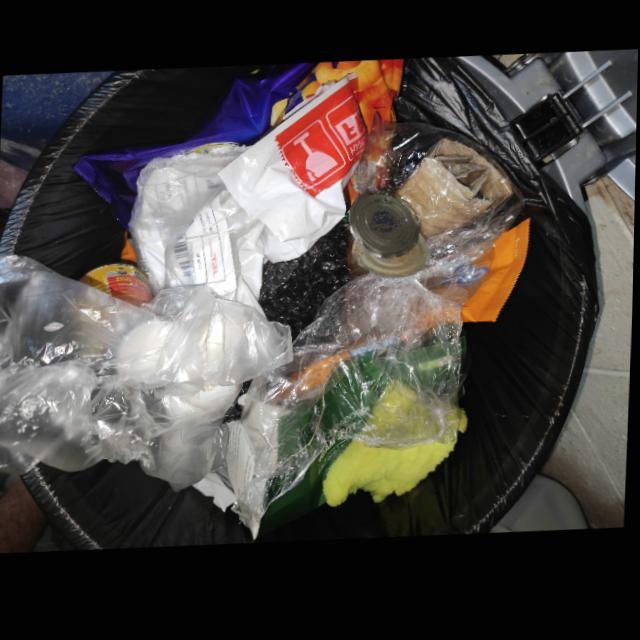aluminum: (350, 197, 431, 283), (80, 264, 158, 332)
food_wrapper: (270, 64, 402, 207), (423, 224, 532, 329)
plastic_bag: (232, 211, 522, 540), (0, 254, 246, 497), (218, 77, 367, 267), (130, 146, 266, 320), (140, 288, 295, 389)
